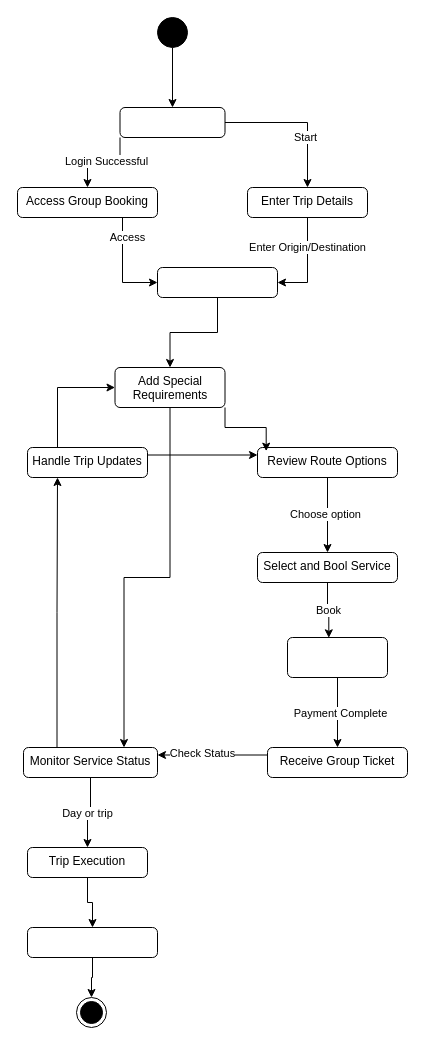
This 425x1045 diagram has some shape labels left out. Here are the shapes that lost their labels. From the top down, the centre of each, then its label:
At [172,122]: "App Login".
At [217,282]: "Specify Group Size".
At [337,657]: "Payment and Confirmation".
At [92,942]: "Trip Completion".
